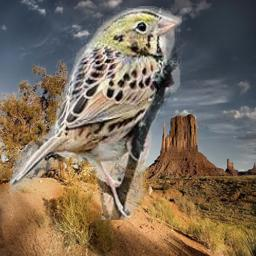Sparrow: (10, 6, 182, 220)
